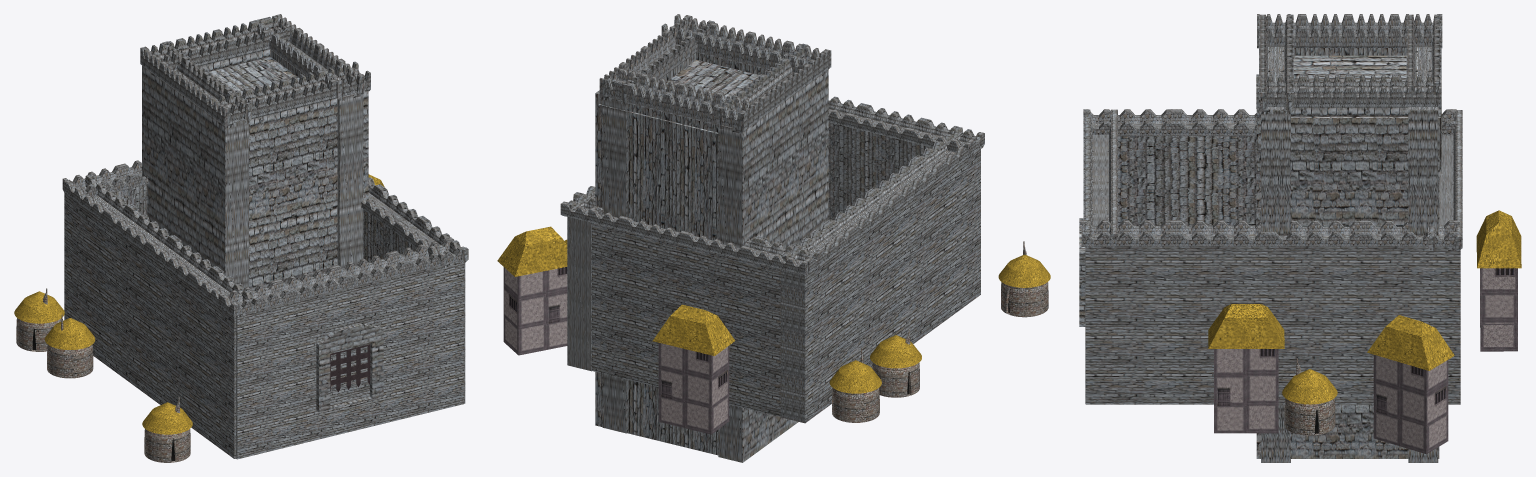
File: Castle 2.obj
3 renders of one model, left to right at view 1: azimuth 30°, elevation 25°; view 2: azimuth 150°, elevation 25°; view 3: azimuth 270°, elevation 25°, orthographic. The views are drawn at different scales.
Parts seen in each view (by area): view 1: Cube.017_Cube.020, Cube.018_Cube.024, Cube.005_Cube.028, Cube.004_Cube.029, Cube.003_Cube.006, Cube.002_Cube.023, Cube.024_Cube.033, Cube.006_Cube.030, Cube.022_Cube.031, Cube.021_Cube.027, Cube.007_Cube.010, Cube.025_Cube.034 (+13 smaller); view 2: Cube.018_Cube.024, Cube.000_Cube.021, Cube.005_Cube.028, Cube.023_Cube.032, Plane.010_Plane.013, Cube.017_Cube.020, Cube.002_Cube.023, Plane.009_Plane.012, Cube.024_Cube.033, Cube.001_Cube.022, Cube.022_Cube.031, Cube.006_Cube.030 (+14 smaller); view 3: Cube.019_Cube.025, Cube.024_Cube.033, Cube.018_Cube.024, Cube.020_Cube.026, Plane.009_Plane.012, Plane.006_Plane.009, Cube.004_Cube.029, Cube.025_Cube.034, Cube.021_Cube.027, Cube.023_Cube.032, Cube.002_Cube.023, Plane.010_Plane.013 (+14 smaller).
Part boxes in pixels (left/top/right/bottom): Cube.017_Cube.020: left=236, top=251, right=464, bottom=459; Cube.018_Cube.024: left=64, top=187, right=242, bottom=458; Cube.005_Cube.028: left=142, top=66, right=248, bottom=288; Cube.004_Cube.029: left=249, top=90, right=368, bottom=290; Cube.003_Cube.006: left=218, top=237, right=466, bottom=316; Cube.002_Cube.023: left=64, top=174, right=260, bottom=317; Cube.024_Cube.033: left=270, top=43, right=363, bottom=268; Cube.006_Cube.030: left=209, top=61, right=370, bottom=126; Cube.022_Cube.031: left=142, top=15, right=290, bottom=77; Cube.021_Cube.027: left=140, top=41, right=251, bottom=128; Cube.007_Cube.010: left=316, top=323, right=383, bottom=412; Cube.025_Cube.034: left=254, top=14, right=364, bottom=100; Cube.018_Cube.024: left=780, top=141, right=980, bottom=423; Cube.000_Cube.021: left=592, top=214, right=780, bottom=416; Cube.005_Cube.028: left=718, top=69, right=828, bottom=462; Cube.023_Cube.032: left=595, top=90, right=718, bottom=455; Plane.010_Plane.013: left=658, top=343, right=729, bottom=434; Cube.017_Cube.020: left=828, top=109, right=962, bottom=220; Cube.002_Cube.023: left=781, top=126, right=984, bottom=272; Plane.009_Plane.012: left=503, top=267, right=567, bottom=355; Cube.024_Cube.033: left=602, top=46, right=696, bottom=433; Cube.001_Cube.022: left=560, top=192, right=819, bottom=275; Cube.022_Cube.031: left=606, top=68, right=758, bottom=131; Cube.006_Cube.030: left=661, top=14, right=828, bottom=81; Cube.019_Cube.025: left=1085, top=234, right=1460, bottom=404; Cube.024_Cube.033: left=1256, top=94, right=1439, bottom=458; Cube.018_Cube.024: left=1092, top=123, right=1443, bottom=225; Cube.020_Cube.026: left=1081, top=220, right=1459, bottom=246; Plane.009_Plane.012: left=1373, top=355, right=1448, bottom=453; Plane.006_Plane.009: left=1214, top=349, right=1278, bottom=433; Cube.004_Cube.029: left=1261, top=34, right=1290, bottom=462; Cube.025_Cube.034: left=1256, top=74, right=1441, bottom=108; Cube.021_Cube.027: left=1257, top=14, right=1442, bottom=48; Cube.023_Cube.032: left=1408, top=34, right=1438, bottom=462; Cube.002_Cube.023: left=1083, top=109, right=1456, bottom=135; Plane.010_Plane.013: left=1480, top=268, right=1517, bottom=351.
Bounding box in the file's own units: 0.725 × 0.6022 × 0.6505.
6 materials, 6 textured.
